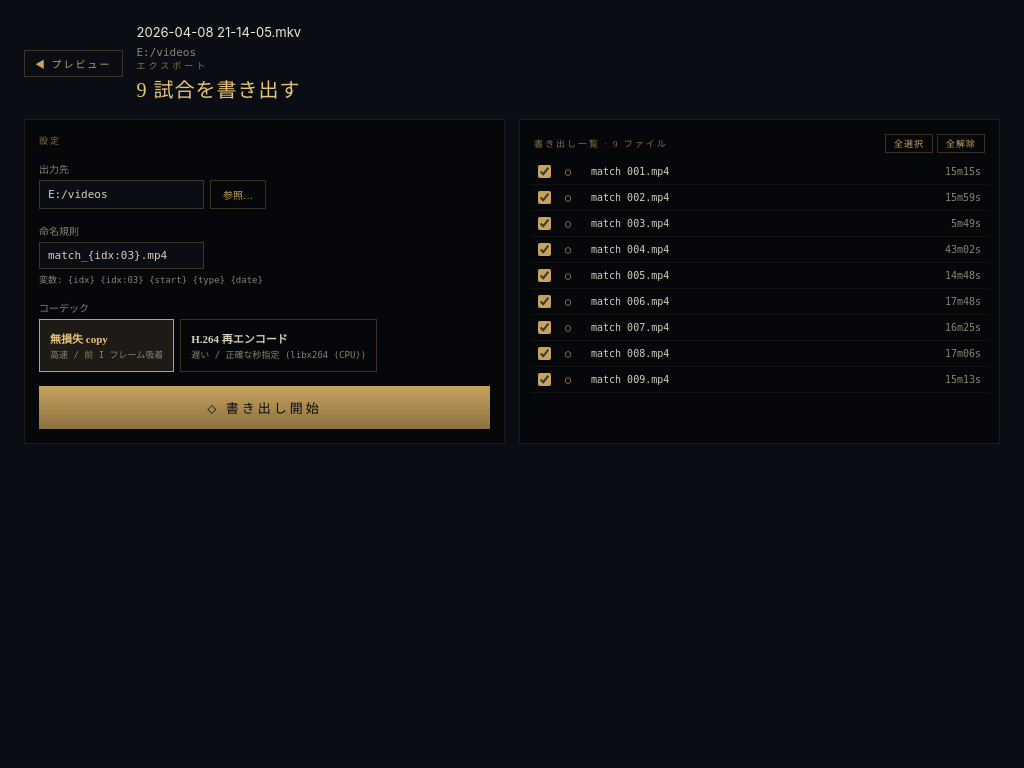
Test: ExportScreen (Phase 4 #466) › 全選択 / 全解除 buttons disable while running
Click the button "⬦ 書き出し開始" at (264, 408), box [39, 386, 490, 429]
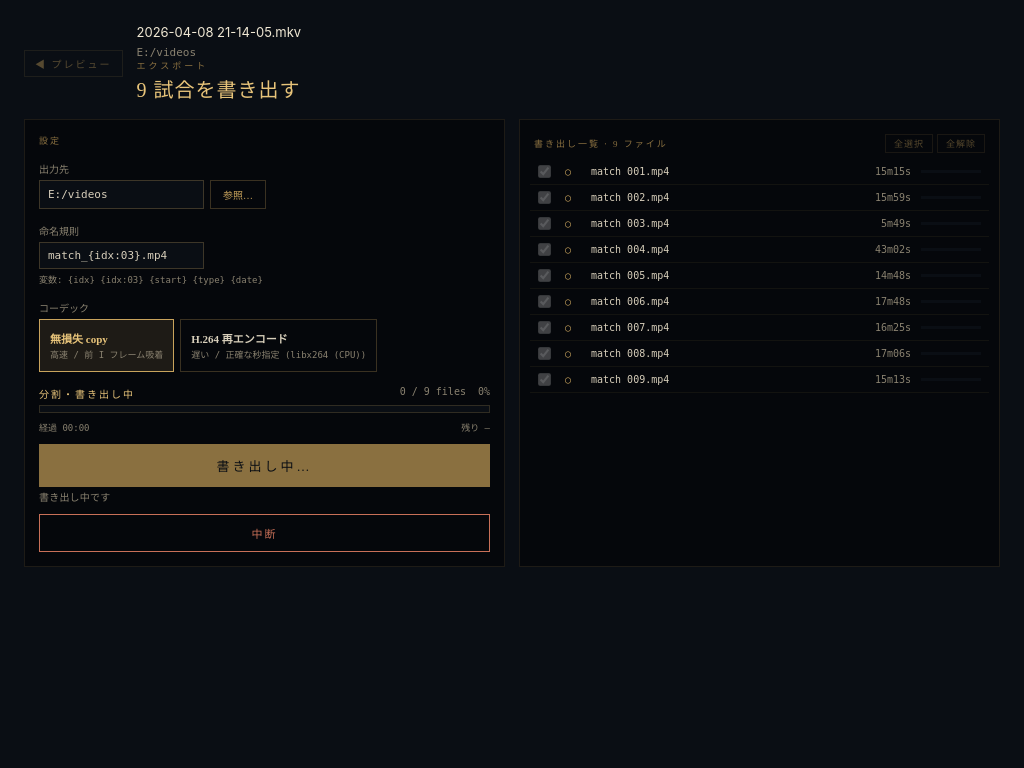
Expected: the button with aria-label "select all matches" is disabled, [885, 134, 933, 153]
Expected: the button with aria-label "deselect all matches" is disabled, [937, 134, 985, 153]
